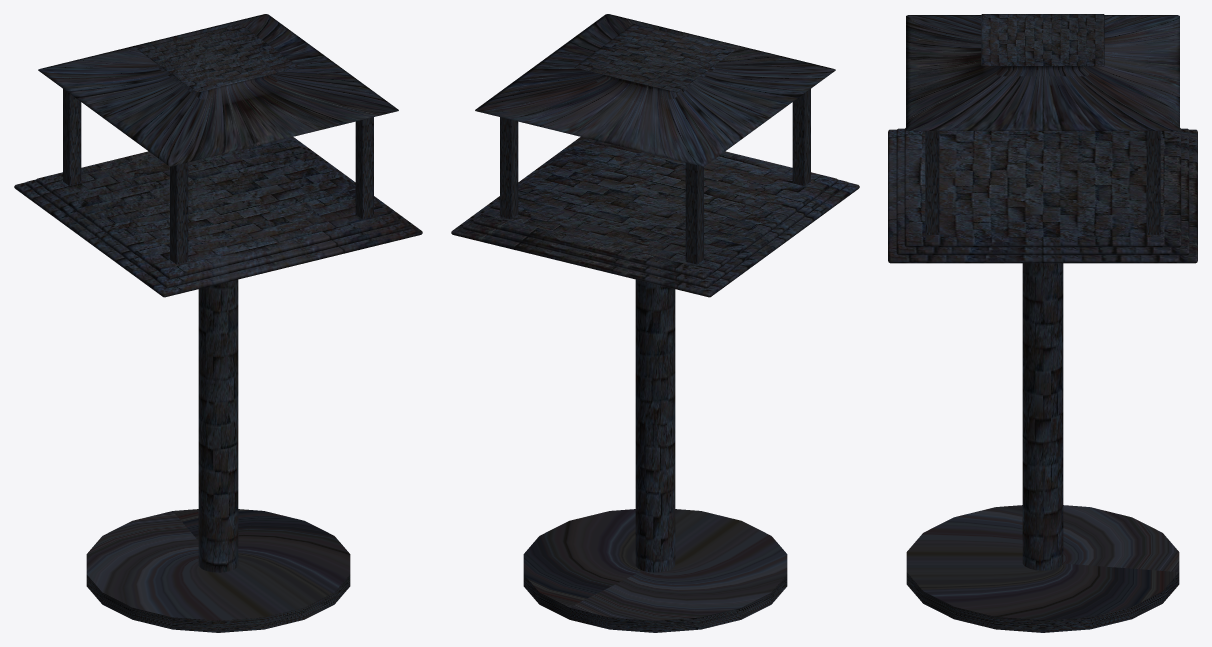
Rendered from Fire.fbx.
The picture shows the model from 3 angles, left to right: view 1: azimuth 30°, elevation 25°; view 2: azimuth 150°, elevation 25°; view 3: azimuth 270°, elevation 25°; orthographic projection. The views are drawn at different scales.
Visible parts, largest first — view 1: ChamferBox013, ChamferBox016, Cylinder002, Cylinder001, ChamferBox014, ChamferBox015, Box002, Box001, Box004; view 2: ChamferBox013, ChamferBox016, Cylinder002, Cylinder001, ChamferBox014, ChamferBox015, Box004, Box003, Box002; view 3: ChamferBox013, ChamferBox016, Cylinder002, Cylinder001, ChamferBox014, ChamferBox015, Box001, Box003.
Part boxes in pixels (x1,y1,x2,y2): ChamferBox013: (38,14,398,166); ChamferBox016: (36,138,400,279); Cylinder002: (86,509,350,632); Cylinder001: (198,279,238,572); ChamferBox014: (14,137,422,297); ChamferBox015: (25,137,411,288); Box002: (170,162,188,264); Box001: (355,117,373,219); Box004: (63,89,81,186); ChamferBox013: (475,14,835,166); ChamferBox016: (473,138,837,279); Cylinder002: (523,509,787,632); Cylinder001: (635,279,675,572); ChamferBox014: (451,137,859,297); ChamferBox015: (462,137,848,288); Box004: (685,162,703,264); Box003: (500,117,518,219); Box002: (792,89,810,186); ChamferBox013: (906,14,1179,130); ChamferBox016: (904,128,1181,247); Cylinder002: (906,505,1179,632); Cylinder001: (1022,263,1063,570); ChamferBox014: (888,129,1197,263); ChamferBox015: (896,128,1189,255); Box001: (925,131,939,234); Box003: (1146,131,1160,234).
Size of the model in its own units: 88.19 by 168 by 88.19.
